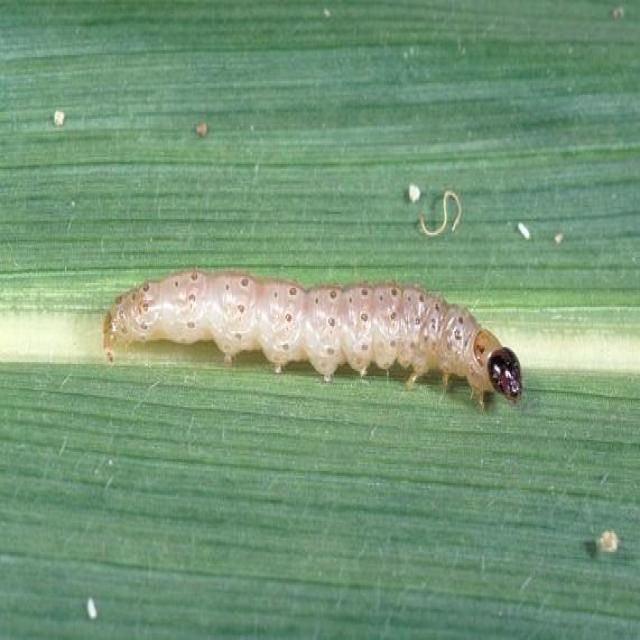cornborer-Larva-: (75, 230, 533, 432)
